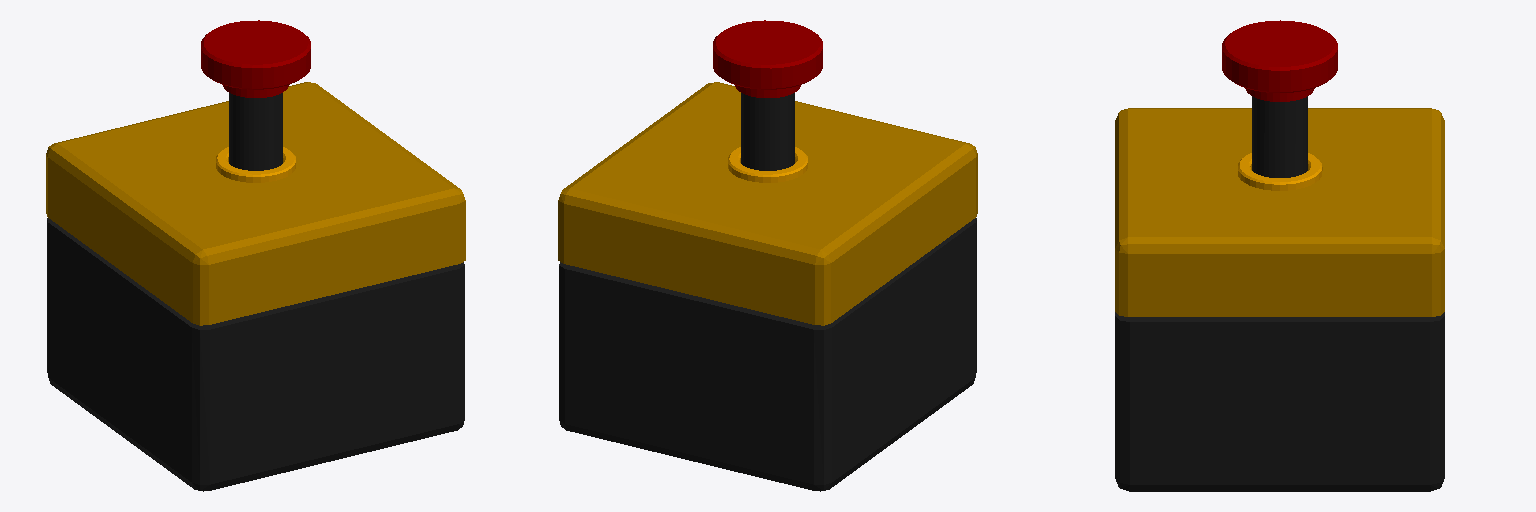
robot.urdf — button:
<?xml version='1.0' encoding='utf-8'?>
<robot name="button">
  <mujoco>
    <compiler discardvisual="false" strippath="false" fusestatic="false" />
  </mujoco>
  <link name="base_link">
    <visual name="stopbot">
      <geometry>
        <mesh filename="button_meshes/stopbot.obj" />
      </geometry>
      <material name="stopbot_color">
        <color rgba="0.15 0.15 0.15 1" />
      </material>
    </visual>
    <visual name="stopbuttonrim">
      <geometry>
        <mesh filename="button_meshes/stopbuttonrim.obj" />
      </geometry>
    </visual>
    <visual name="stoptop">
      <geometry>
        <mesh filename="button_meshes/stoptop.obj" />
      </geometry>
      <material name="stoptop_color">
        <color rgba="0.7 0.5 0 1" />
      </material>
    </visual>
    <collision name="housing_3">
      <origin xyz="0 0.036 0.05099882776" rpy="0 0 0" />
      <geometry>
        <box size="0.12 0.048 0.102" />
      </geometry>
    </collision>
    <collision name="housing_4">
      <origin xyz="0 -0.036 0.05099882776" rpy="0 0 0" />
      <geometry>
        <box size="0.12 0.048 0.102" />
      </geometry>
    </collision>
    <collision name="housing_5">
      <origin xyz="-0.0365 0 0.05099882776" rpy="0 0 0" />
      <geometry>
        <box size="0.047 0.024 0.102" />
      </geometry>
    </collision>
    <collision name="housing_6">
      <origin xyz="0.0365 0 0.05099882776" rpy="0 0 0" />
      <geometry>
        <box size="0.047 0.024 0.102" />
      </geometry>
    </collision>
    <inertial>
      <origin xyz="0 0 0.05260416311" rpy="0 0 0" />
      <mass value="0.35" />
      <inertia ixx="0.0007428397451404301" iyy="0.0007428397451404301" izz="0.0008399999624490741" ixy="0" ixz="0" iyz="0" />
    </inertial>
  </link>
  <link name="button_link">
    <visual name="stopbutton">
      <geometry>
        <mesh filename="button_meshes/stopbutton.obj" />
      </geometry>
      <material name="stopbutton_color">
        <color rgba="0.6 0 0 1" />
      </material>
    </visual>
    <visual name="stopbuttonrod">
      <geometry>
        <mesh filename="button_meshes/stopbuttonrod.obj" />
      </geometry>
      <material name="stopbuttonrod_color">
        <color rgba="0.15 0.15 0.15 1" />
      </material>
    </visual>
    <collision name="button_contact_stopbutton">
      <origin xyz="0 1.011052458e-05 0.1451911767" rpy="0 0 0" />
      <geometry>
        <box size="0.0424599573 0.04246674767 0.01762088606" />
      </geometry>
    </collision>
    <collision name="button_contact_stopbuttonrod">
      <origin xyz="0 4.870047767e-07 0.1206098068" rpy="0 0 0" />
      <geometry>
        <box size="0.02034055255 0.02037108509 0.03836483799" />
      </geometry>
    </collision>
    <inertial>
      <origin xyz="0 1.011052458e-05 0.1277145038" rpy="0 0 0" />
      <mass value="0.02" />
      <inertia ixx="7.61245753254626e-06" iyy="7.611496393640632e-06" izz="6.010454385755997e-06" ixy="0" ixz="0" iyz="0" />
    </inertial>
  </link>
  <joint name="button_press_joint" type="prismatic">
    <origin xyz="0 0 0" rpy="0 0 0" />
    <parent link="base_link" />
    <child link="button_link" />
    <axis xyz="0 0 -1" />
    <limit lower="0" upper="0.03" effort="20" velocity="0.1" />
    <dynamics damping="3" friction="0.25" />
  </joint>
  <gazebo reference="button_press_joint">
    <springStiffness>120</springStiffness>
    <springReference>-0.004</springReference>
    <implicitSpringDamper>true</implicitSpringDamper>
  </gazebo>
</robot>

--- What the picture shows (computed from the rendered views, not written in the file) ---
Views: 3 orthographic renders of the robot side by side, from view 1: azimuth 30°, elevation 25°; view 2: azimuth 150°, elevation 25°; view 3: azimuth 270°, elevation 25°.
Model button with 2 links and 1 joints (1 prismatic), rooted at base_link, posed every joint at zero.
Links seen in each view (by area): view 1: base_link, button_link; view 2: base_link, button_link; view 3: base_link, button_link.
Link boxes in pixels (box(x1,y1,x2,y2)): base_link: box(46, 82, 465, 491); button_link: box(201, 20, 310, 170); base_link: box(558, 82, 977, 491); button_link: box(713, 20, 822, 170); base_link: box(1115, 108, 1444, 491); button_link: box(1222, 20, 1337, 177).
Bounding box of the posed robot: 0.12 × 0.12 × 0.154 m (x, y, z).
5 mesh visuals loaded from 5 distinct referenced files (5 OBJ).
